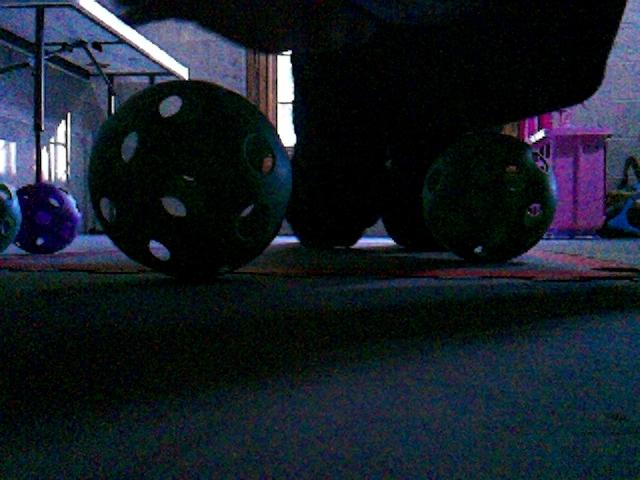Green: (88, 80, 291, 278), (419, 132, 554, 262), (0, 183, 23, 252)
Purple: (13, 184, 83, 254)
